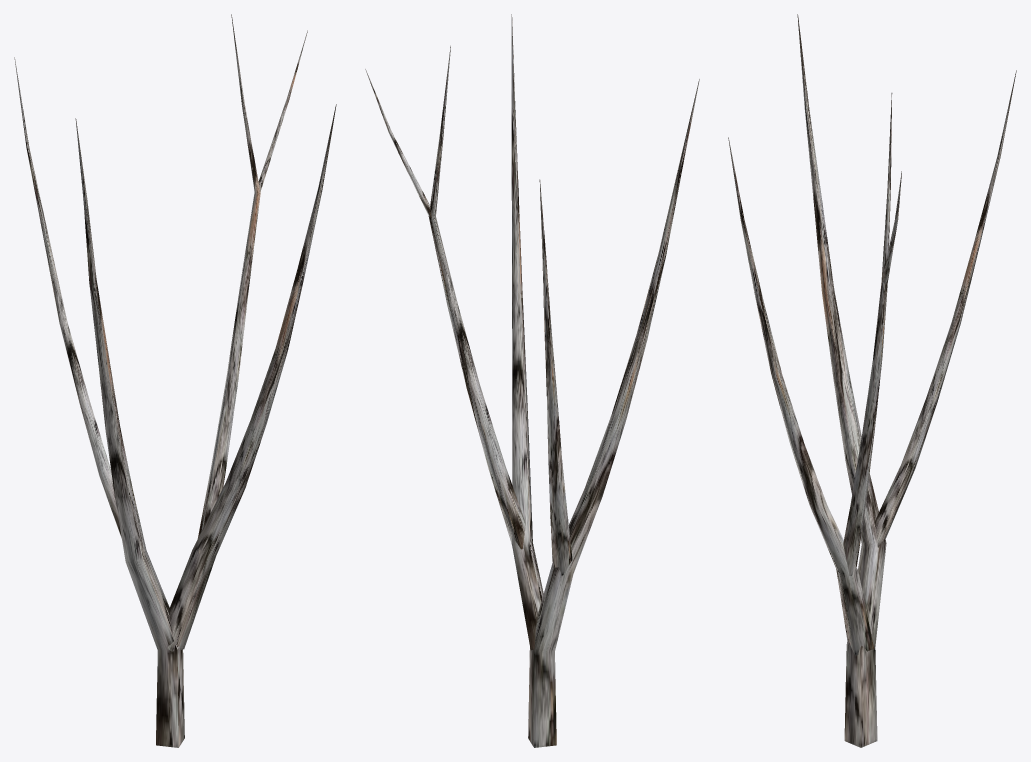
Rendered from No Leaves 1 Light.fbx.
3 renders of one model, left to right at view 1: azimuth 30°, elevation 25°; view 2: azimuth 150°, elevation 25°; view 3: azimuth 270°, elevation 25°, orthographic.
Parts seen in each view (by area): view 1: Tree No Leaves 1 Light; view 2: Tree No Leaves 1 Light; view 3: Tree No Leaves 1 Light.
Part boxes in pixels (x1,y1,x2,y2): Tree No Leaves 1 Light: (14, 14, 336, 747); Tree No Leaves 1 Light: (365, 14, 699, 747); Tree No Leaves 1 Light: (728, 14, 1016, 747).
Size of the model in its own units: 198 by 462 by 176.
1 material, 1 textured.
